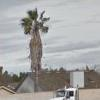Palm tree: (17, 6, 59, 74)
